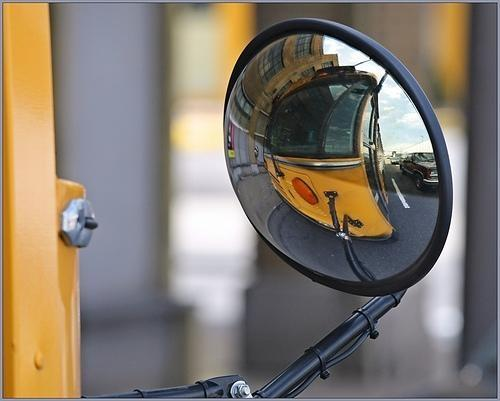bus: (265, 70, 396, 237)
car: (390, 156, 400, 164)
truck: (399, 151, 440, 191)
